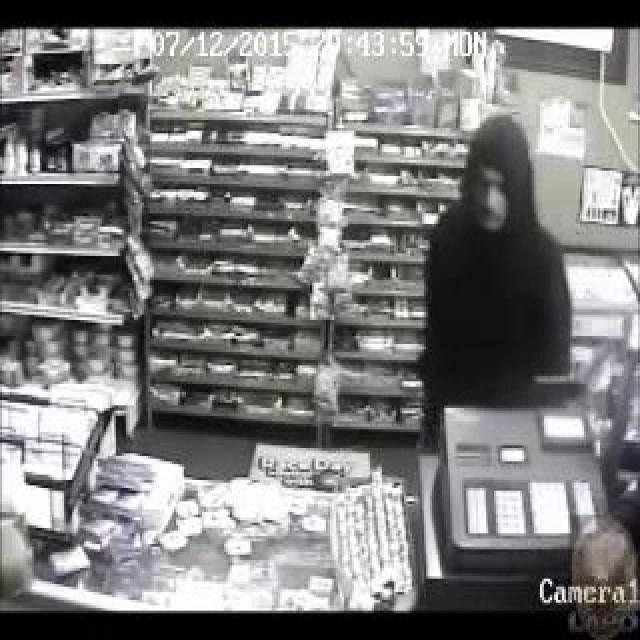robbery: (307, 119, 580, 533)
